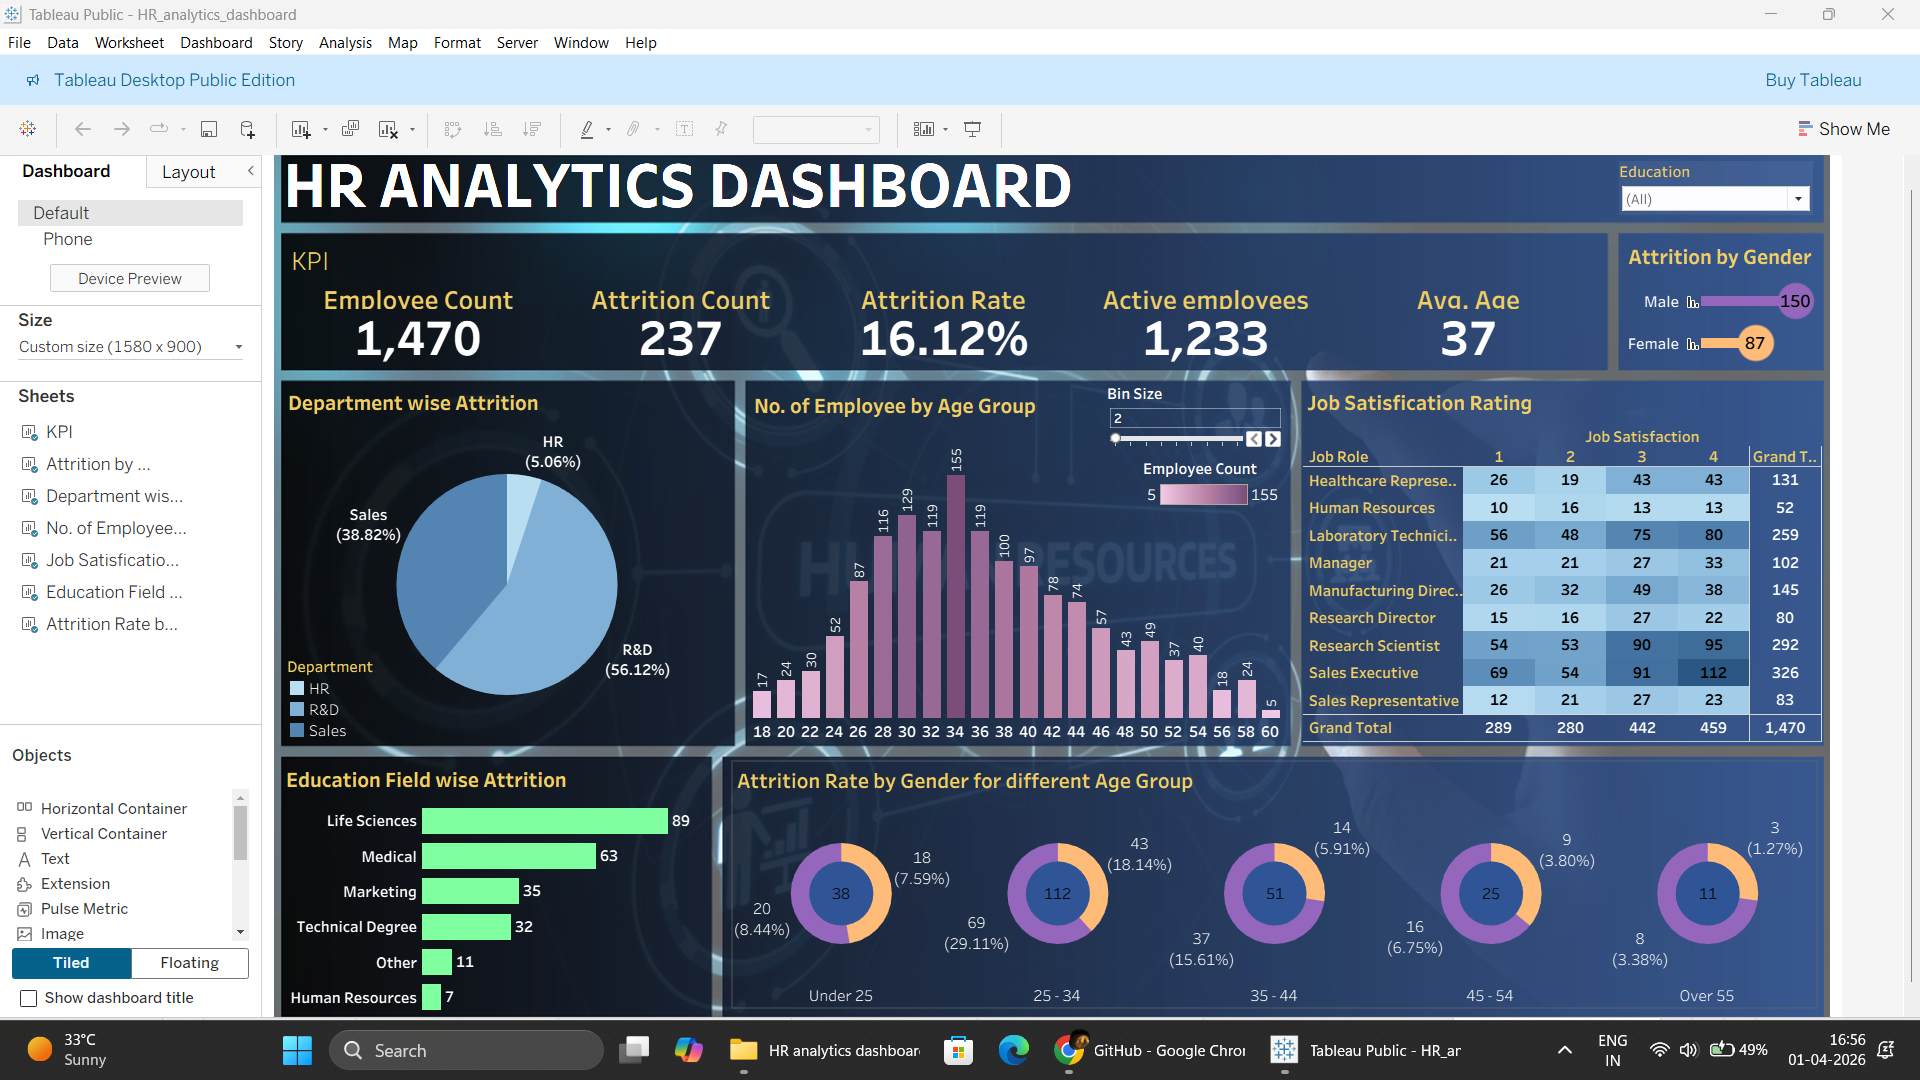

The dashboard page shown, as its layout file describes it:
{"tool":"tableau","page":{"name":"HR Analytics Dashboard","canvas":[1580,900],"ordinal":0},"visuals":[{"type":"image","param":"Image/HR background.png","box":[8,8,1564,884]},{"type":"text","box":[18,18,802,57]},{"type":"text","box":[18,18,802,57]},{"type":"text","box":[18,18,802,57]},{"type":"text","box":[18,18,802,57]},{"type":"filter","title":"Department wise Attrition","param":"[federated.0gdi9bm15grzeq1drcvyh0ebnzmu].[none:Education:nk]","box":[1357,25,194,54]},{"type":"worksheet","title":"Attrition by Gender","mark":"Automatic","rows":["Gender"],"cols":["Calculation_1350797012078592","Calculation_1350797012078592"],"box":[1359,102,198,126]},{"type":"worksheet","title":"KPI","mark":"Automatic","box":[25,103,1313,124]},{"type":"parameter","param":"[Parameters].[Parameter 1]","box":[845,247,177,71]},{"type":"worksheet","title":"Department wise Attrition","mark":"Pie","box":[22,248,446,359]},{"type":"worksheet","title":"Job Satisfication Rating","mark":"Square","rows":["Job Role"],"cols":["Job Satisfaction"],"box":[1041,248,519,358]},{"type":"worksheet","title":"No. of Employee by Age Group","mark":"Automatic","rows":["Employee Count"],"cols":["Age (bin)"],"box":[488,251,533,356]},{"type":"legend","title":"No. of Employee by Age Group","param":"[federated.0gdi9bm15grzeq1drcvyh0ebnzmu].[sum:Employee Count:qk]","box":[881,322,140,88]},{"type":"legend","title":"Department wise Attrition","param":"[federated.0gdi9bm15grzeq1drcvyh0ebnzmu].[none:Department:nk]","box":[25,520,140,85]},{"type":"worksheet","title":"Education Field wise Attrition","mark":"Automatic","rows":["Education Field"],"cols":["Calculation_1350797012078592"],"box":[20,625,425,254]},{"type":"worksheet","title":"Attrition Rate by Gender for different Age Group","mark":"Pie","rows":["Calculation_1350797037293572","Calculation_1350797037293572"],"cols":["CF_age band"],"box":[471,626,1083,245]}]}

Visuals, with their boxes on the page's 1580x900 design canvas (x1, y1, x2, y2). These are canvas units, not pixel positions in the 1920x1080 screenshot, which may show the page scaled, cropped or inside an application window:
image: 8,8,1572,892
text: 18,18,820,75
text: 18,18,820,75
text: 18,18,820,75
text: 18,18,820,75
"Department wise Attrition" filter: 1357,25,1551,79
"Attrition by Gender" worksheet: 1359,102,1557,228
"KPI" worksheet: 25,103,1338,227
parameter: 845,247,1022,318
"Department wise Attrition" worksheet (Pie marks): 22,248,468,607
"Job Satisfication Rating" worksheet (Square marks): 1041,248,1560,606
"No. of Employee by Age Group" worksheet: 488,251,1021,607
"No. of Employee by Age Group" legend: 881,322,1021,410
"Department wise Attrition" legend: 25,520,165,605
"Education Field wise Attrition" worksheet: 20,625,445,879
"Attrition Rate by Gender for different Age Group" worksheet (Pie marks): 471,626,1554,871
